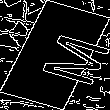M_W: (12, 24, 98, 86)
